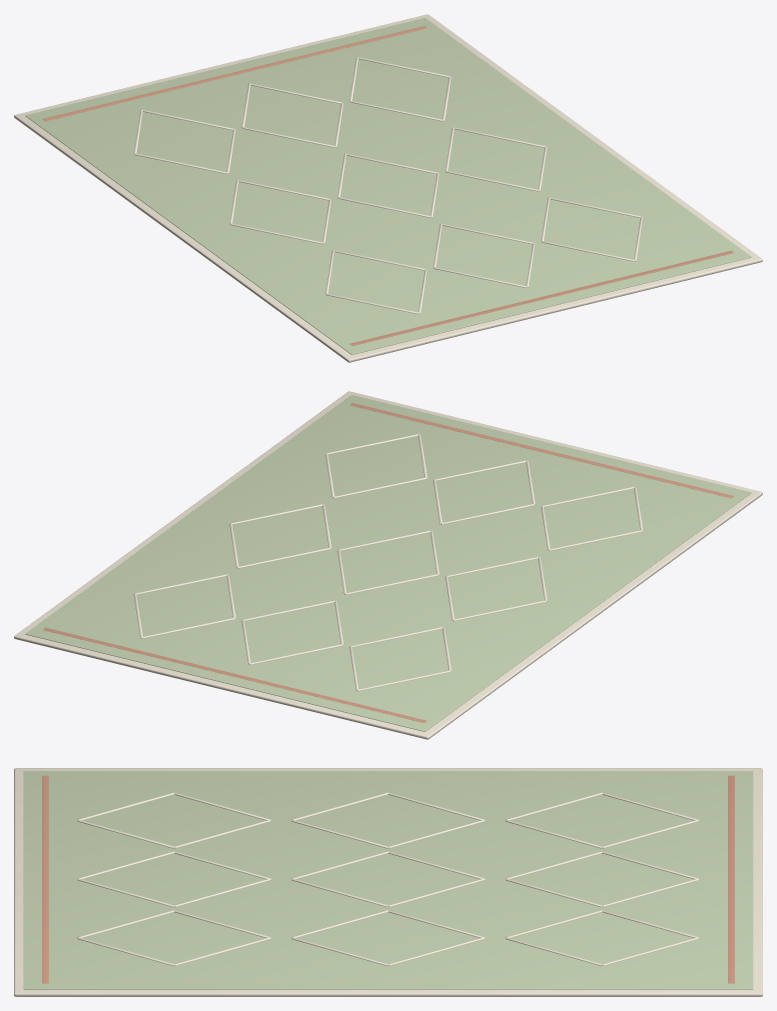
Rendered from diamond-wool-rug.glb.
The picture shows the model from 3 angles, top to bottom: view 1: azimuth 30°, elevation 25°; view 2: azimuth 150°, elevation 25°; view 3: azimuth 270°, elevation 25°; orthographic projection. The views are drawn at different scales.
Visible parts, largest first — view 1: catalog_surface_RealismUV; view 2: catalog_surface_RealismUV; view 3: catalog_surface_RealismUV.
Part boxes in pixels (left/top/right/bottom): catalog_surface_RealismUV: left=14, top=14, right=762, bottom=362; catalog_surface_RealismUV: left=14, top=391, right=762, bottom=739; catalog_surface_RealismUV: left=14, top=768, right=762, bottom=996.
Bounding box in the file's own units: 2 × 0.024 × 2.8.
